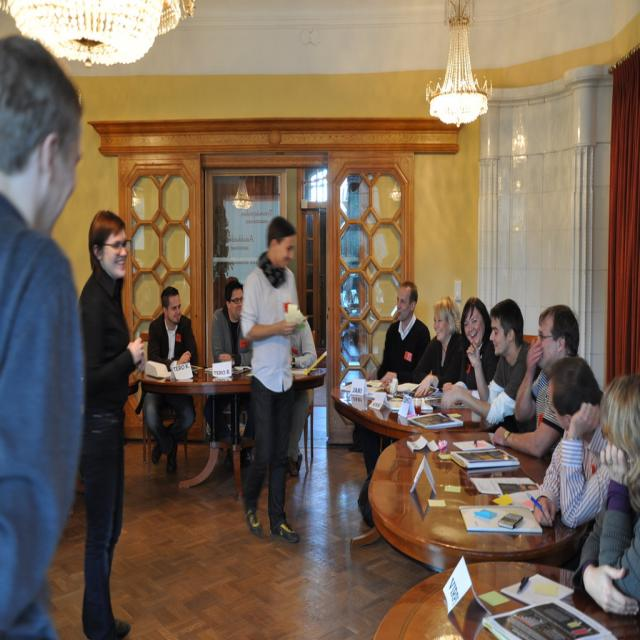desk: (368, 433, 588, 574)
person: (0, 33, 86, 630), (76, 205, 146, 636), (240, 215, 313, 541), (573, 374, 640, 616), (528, 355, 608, 553), (489, 304, 580, 465), (195, 278, 251, 488), (442, 296, 529, 424), (144, 286, 199, 473), (376, 280, 430, 388), (412, 296, 463, 396)
